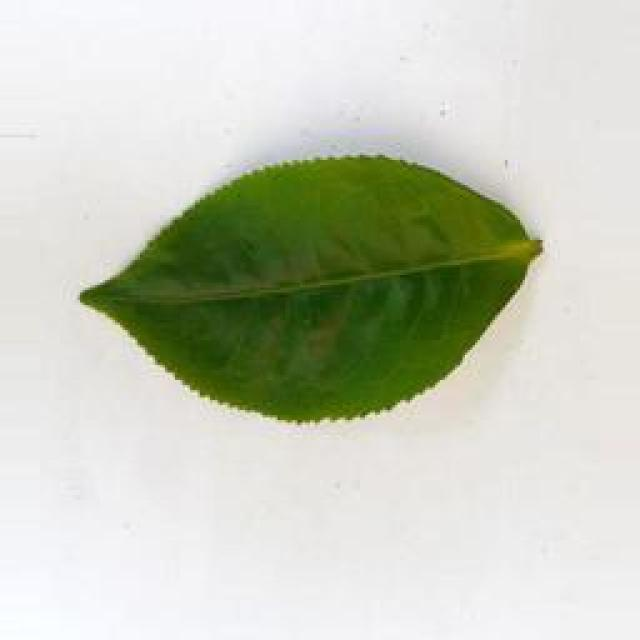Healthy: (72, 152, 543, 426)
